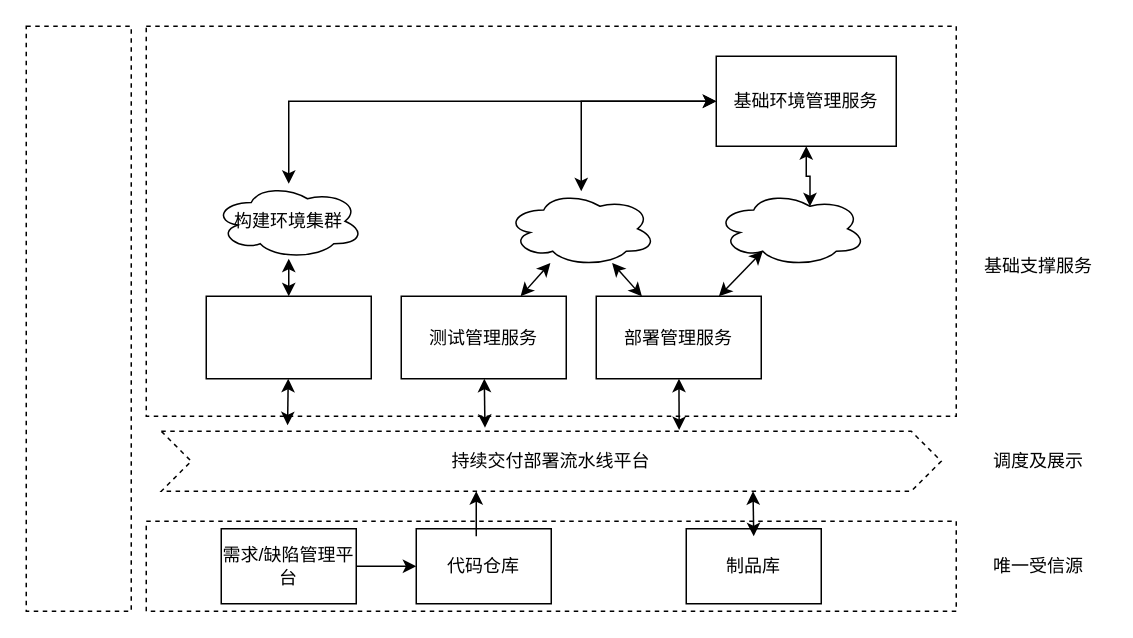
The diagram is 1133 pixels wide and 638 high, and some of its shapes have lost their labels. Each missing label, with the centre of its shape:
"构建管理服务" goes at [288,337].
"测试环境集群" goes at [580,228].
"生产环境集群" goes at [790,228].
"监控检测系统" goes at [78,318].
